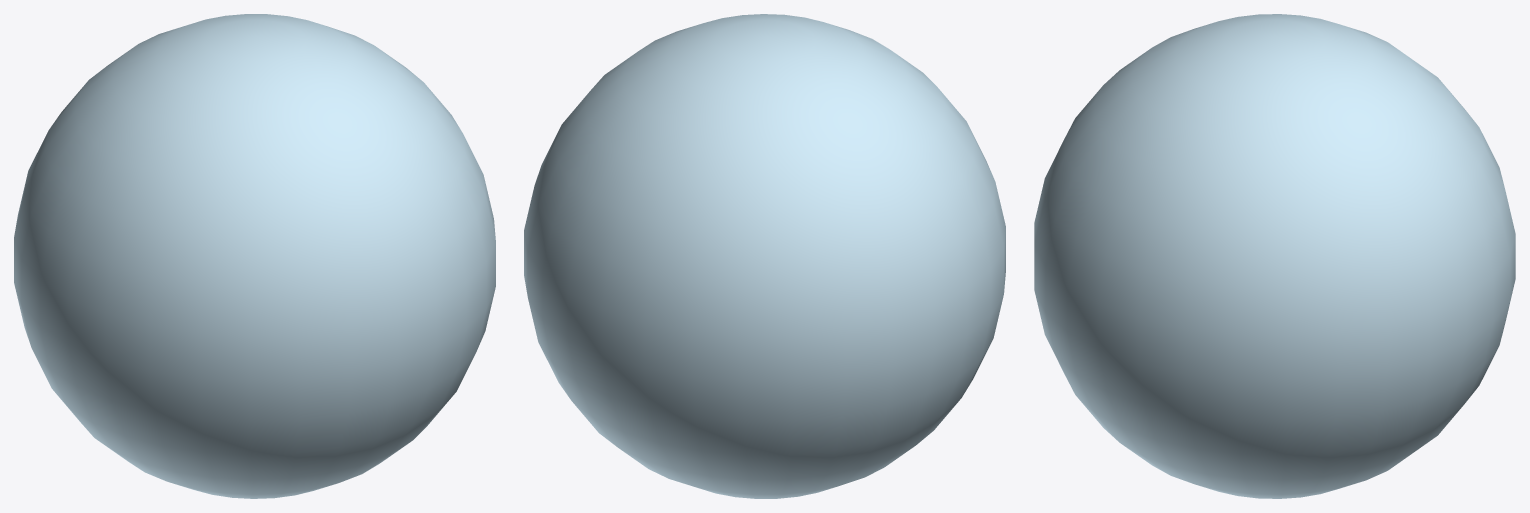
File: _60355K291_Steel_Ball_Bearing_4.gltf
3 renders of one model, left to right at view 1: azimuth 30°, elevation 25°; view 2: azimuth 150°, elevation 25°; view 3: azimuth 270°, elevation 25°, orthographic.
Visible parts, largest first — view 1: mesh51714; view 2: mesh51714; view 3: mesh51714.
Part boxes in pixels (bbox=[...]): mesh51714: bbox=[14, 14, 495, 498]; mesh51714: bbox=[524, 14, 1005, 498]; mesh51714: bbox=[1034, 14, 1515, 498].
Size of the model in its own units: 0.00473 by 0.00476 by 0.00472.
